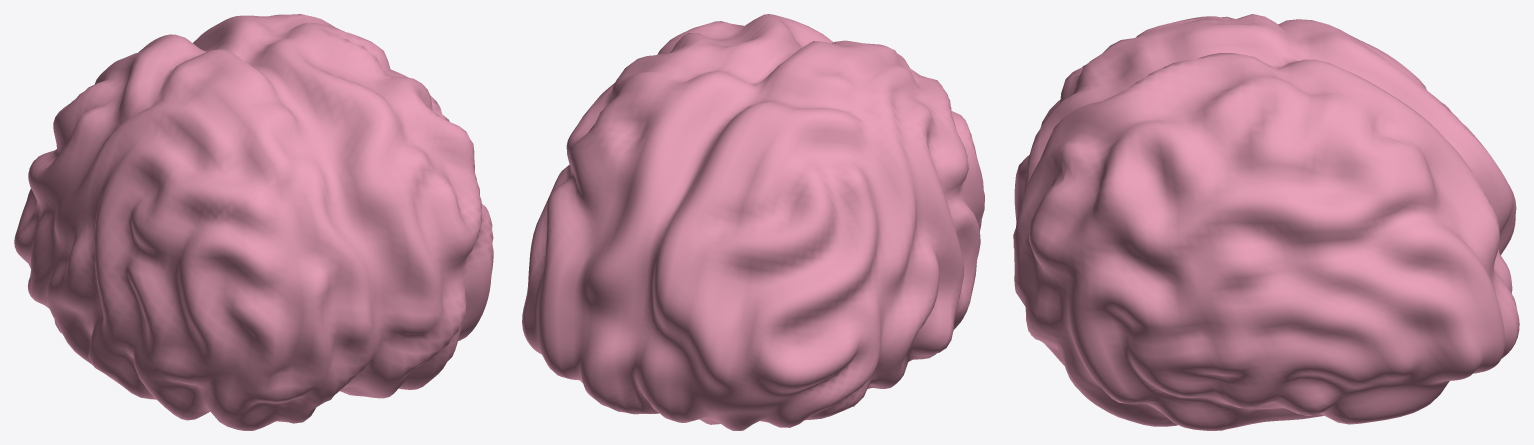
Rendered from Brain.glb.
The picture shows the model from 3 angles, left to right: view 1: azimuth 30°, elevation 25°; view 2: azimuth 150°, elevation 25°; view 3: azimuth 270°, elevation 25°; orthographic projection. The views are drawn at different scales.
Parts seen in each view (by area): view 1: Cube; view 2: Cube; view 3: Cube.
Part boxes in pixels (x1,y1,x2,y2): Cube: (14,14,493,430); Cube: (522,14,984,430); Cube: (1013,14,1519,430).
Size of the model in its own units: 1.43 by 1.2 by 1.61.
